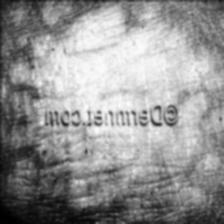Non-Cancerous Skin Condition: (7, 0, 224, 100), (0, 130, 224, 224)
